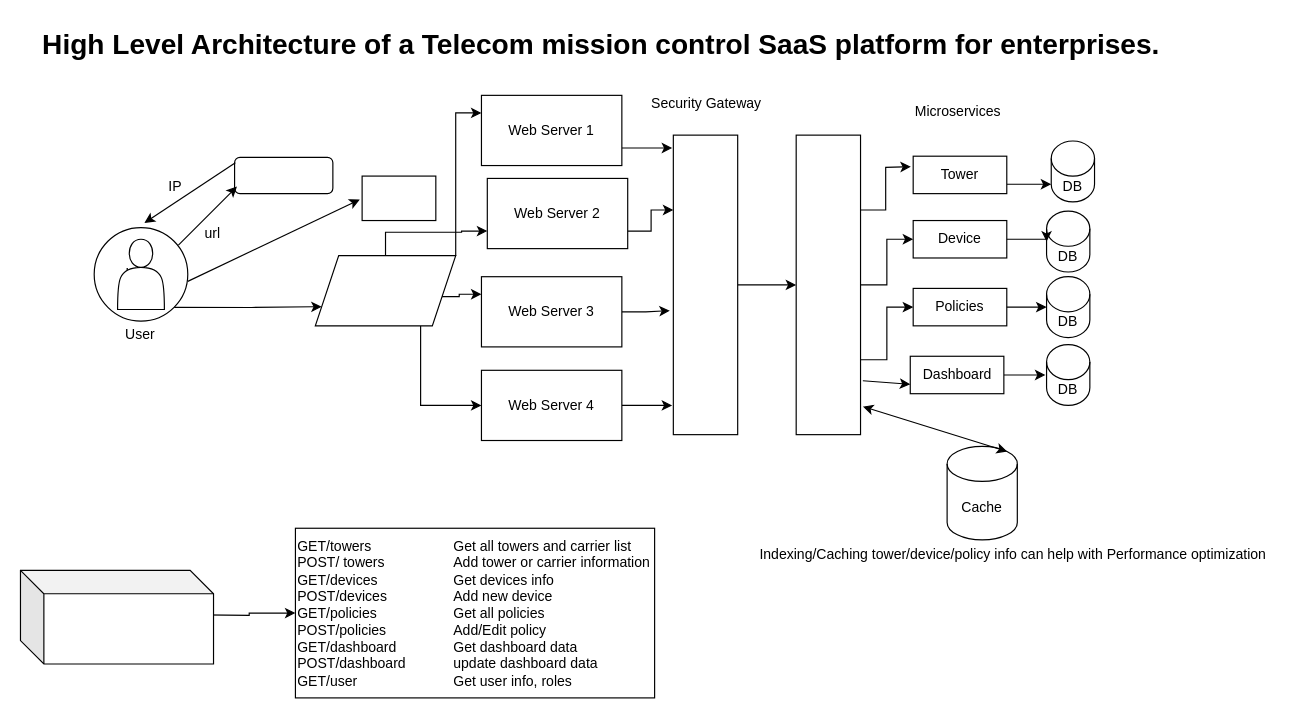
Image size: 1296x718. Some labels were removed from this diagram. Each missing label, with the centre of its shape:
API Gateway: the point at 828,284
Auth Provider: the point at 705,284
CDN's: the point at 398,198
DNS: the point at 283,175
Load Balancer: the point at 385,290
Restful API end points: the point at 116,616
